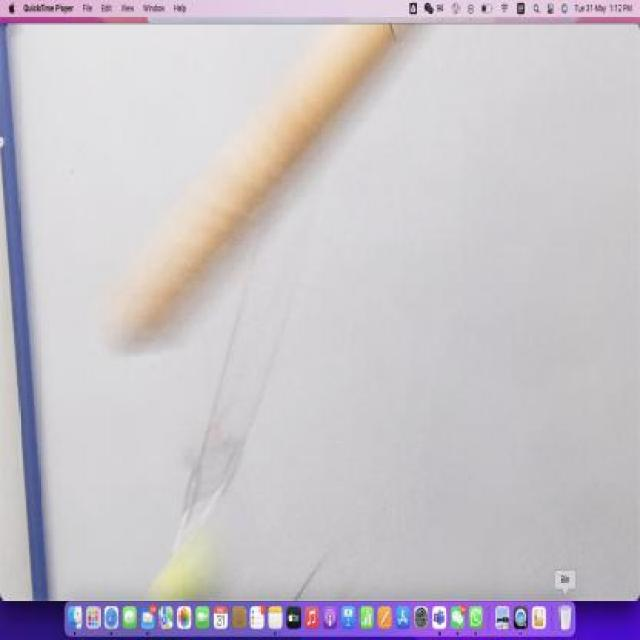baseball: (142, 545, 215, 601)
